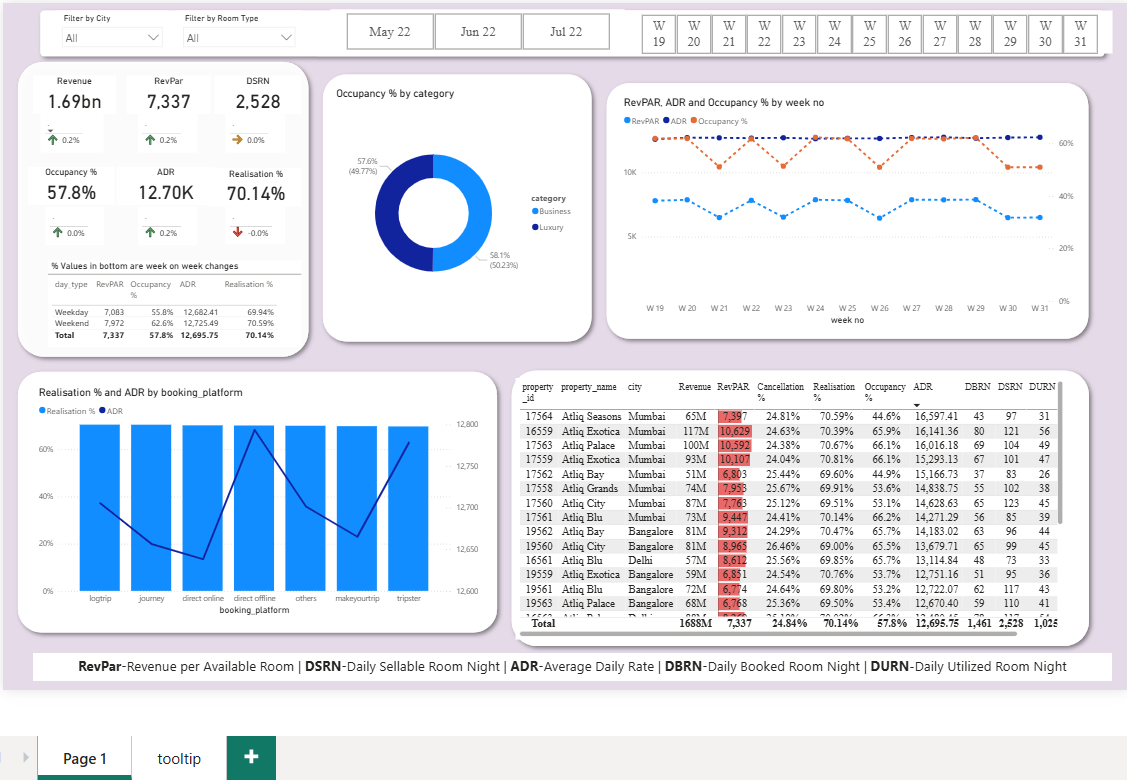

This screenshot's page, from the dashboard's own definition file:
{"tool":"powerbi","page":{"name":"Page 1","canvas":[1800,1100],"ordinal":0},"visuals":[{"type":"shape","box":[48.6,0,1726.2,97.1],"z":0},{"type":"shape","box":[801.8,576.9,947.4,464.5],"z":1000},{"type":"shape","box":[11.2,577.3,790.3,440.9],"z":2000},{"type":"shape","box":[11.1,81.1,488.4,495.8],"z":3000},{"type":"shape","box":[954.8,116.1,794.4,433.1],"z":4000},{"type":"lineChart","fields":{"Y":["Key_Measures.RevPAR","Key_Measures.ADR"],"Category":["dim_date.mmm yy.Variation.Date Hierarchy.Month","dim_date.week no"],"Y2":["Key_Measures.Occupancy %"]},"box":[987.9,147.5,729.9,372.3],"z":5000},{"type":"shape","box":[499.5,101.4,453.4,451.6],"z":6000},{"type":"tableEx","fields":{"Values":["dim_hotel.property_id","dim_hotel.property_name","dim_hotel.city","Key_Measures.Revenue","Key_Measures.RevPAR","Key_Measures.Cancellation %","Key_Measures.Realisation %","Key_Measures.Occupancy %","Key_Measures.ADR(Average Daily Rate)","Key_Measures.DBRN(Daily Booked Room Nights)","Key_Measures.DSRN(Daily Sellable Room Nights)","Key_Measures.DURN(Daily Utilised Room Nights)"]},"box":[820.2,599,881,418.4],"z":7000},{"type":"slicer","fields":{"Values":["dim_hotel.city"]},"box":[84.1,11.2,181.2,69.1],"z":8000},{"type":"slicer","fields":{"Values":["dim_rooms.room_class"]},"box":[278.4,11.2,199.9,69.1],"z":9000},{"type":"slicer","fields":{"Values":["dim_date.mmm yy"]},"box":[525,9.3,470.8,71],"z":10000},{"type":"slicer","fields":{"Values":["dim_date.week no"]},"box":[995.8,11.2,779,69.1],"z":11000},{"type":"card","title":"Revenue ","fields":{"Values":["Key_Measures.Revenue"]},"box":[48.6,115.8,132.6,61.7],"z":12000},{"type":"donutChart","fields":{"Category":["dim_hotel.category"],"Y":["Key_Measures.Occupancy %"]},"box":[527.1,134.6,396.3,385.2],"z":13000},{"type":"tableEx","fields":{"Values":["Key_Measures.Revenue WoW Change%"]},"box":[59.8,177.5,100.9,61.7],"z":14000},{"type":"card","title":"RevPar","fields":{"Values":["Key_Measures.RevPAR"]},"box":[198,115.8,134.5,61.7],"z":15000},{"type":"tableEx","fields":{"Values":["Key_Measures.RevPAR WoW Change%"]},"box":[216.7,177.5,95.3,61.7],"z":16000},{"type":"card","title":"DSRN","fields":{"Values":["Key_Measures.DSRN"]},"box":[338.1,115.8,140.1,61.7],"z":17000},{"type":"tableEx","fields":{"Values":["Key_Measures.DSRN WoW change %"]},"box":[356.8,177.5,95.3,61.7],"z":18000},{"type":"card","title":"Occupancy %","fields":{"Values":["Key_Measures.Occupancy %"]},"box":[40.5,261.7,138.2,60.8],"z":19000},{"type":"tableEx","fields":{"Values":["Key_Measures.Occupancy WoW Change%"]},"box":[67.3,325.1,93.4,61.7],"z":20000},{"type":"card","title":"ADR","fields":{"Values":["Key_Measures.ADR(Average Daily Rate)"]},"box":[181.2,261.6,156.9,61.7],"z":21000},{"type":"tableEx","fields":{"Values":["Key_Measures.ADR WoW Change%"]},"box":[216.7,325.1,95.3,61.7],"z":22000},{"type":"card","title":"Realisation %","fields":{"Values":["Key_Measures.Realisation %"]},"box":[332.5,263.4,145.7,61.7],"z":23000},{"type":"tableEx","fields":{"Values":["Key_Measures.Realisation WoW Change%"]},"box":[356.8,325.1,95.3,59.8],"z":24000},{"type":"tableEx","title":"% Values in bottom are week on week changes ","fields":{"Values":["dim_date.day_type","Key_Measures.RevPAR","Key_Measures.Occupancy %","Key_Measures.ADR","Key_Measures.Realisation %"]},"box":[72.9,411,405.4,138.2],"z":25000},{"type":"textbox","box":[48.6,1040.6,1726.2,44.8],"z":26000},{"type":"lineStackedColumnComboChart","fields":{"Y":["Key_Measures.Realisation %"],"Y2":["Key_Measures.ADR"],"Category":["fact_bookings.booking_platform"]},"box":[51.6,611.9,713.3,372.3],"z":27000}]}

Visuals, with their boxes on the page's 1800x1100 design canvas (x1, y1, x2, y2). These are canvas units, not pixel positions in the 1127x780 screenshot, which may show the page scaled, cropped or inside an application window:
shape: [left=49, top=0, right=1775, bottom=97]
shape: [left=802, top=577, right=1749, bottom=1041]
shape: [left=11, top=577, right=802, bottom=1018]
shape: [left=11, top=81, right=500, bottom=577]
shape: [left=955, top=116, right=1749, bottom=549]
lineChart - Key_Measures.RevPAR x Key_Measures.ADR: [left=988, top=148, right=1718, bottom=520]
shape: [left=500, top=101, right=953, bottom=553]
tableEx - dim_hotel.property_id x dim_hotel.property_name: [left=820, top=599, right=1701, bottom=1017]
slicer - dim_hotel.city: [left=84, top=11, right=265, bottom=80]
slicer - dim_rooms.room_class: [left=278, top=11, right=478, bottom=80]
slicer - dim_date.mmm yy: [left=525, top=9, right=996, bottom=80]
slicer - dim_date.week no: [left=996, top=11, right=1775, bottom=80]
"Revenue " card: [left=49, top=116, right=181, bottom=178]
donutChart - dim_hotel.category x Key_Measures.Occupancy %: [left=527, top=135, right=923, bottom=520]
tableEx - Key_Measures.Revenue WoW Change%: [left=60, top=178, right=161, bottom=239]
"RevPar" card: [left=198, top=116, right=332, bottom=178]
tableEx - Key_Measures.RevPAR WoW Change%: [left=217, top=178, right=312, bottom=239]
"DSRN" card: [left=338, top=116, right=478, bottom=178]
tableEx - Key_Measures.DSRN WoW change %: [left=357, top=178, right=452, bottom=239]
"Occupancy %" card: [left=40, top=262, right=179, bottom=322]
tableEx - Key_Measures.Occupancy WoW Change%: [left=67, top=325, right=161, bottom=387]
"ADR" card: [left=181, top=262, right=338, bottom=323]
tableEx - Key_Measures.ADR WoW Change%: [left=217, top=325, right=312, bottom=387]
"Realisation %" card: [left=332, top=263, right=478, bottom=325]
tableEx - Key_Measures.Realisation WoW Change%: [left=357, top=325, right=452, bottom=385]
"% Values in bottom are week on week changes " tableEx: [left=73, top=411, right=478, bottom=549]
textbox: [left=49, top=1041, right=1775, bottom=1085]
lineStackedColumnComboChart - Key_Measures.Realisation % x Key_Measures.ADR: [left=52, top=612, right=765, bottom=984]
